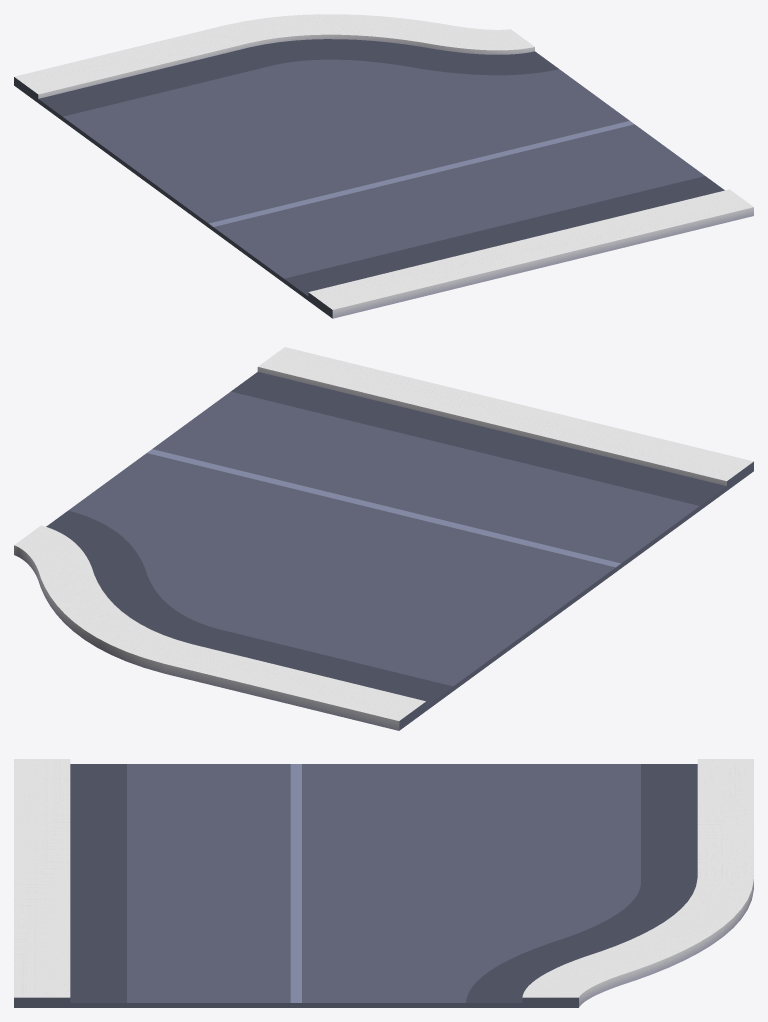
File: road-side-entry.glb
3 renders of one model, top to bottom at view 1: azimuth 30°, elevation 25°; view 2: azimuth 150°, elevation 25°; view 3: azimuth 270°, elevation 25°, orthographic. The views are drawn at different scales.
Visible parts, largest first — view 1: road-side-entry; view 2: road-side-entry; view 3: road-side-entry.
Part boxes in pixels (bbox=[...]): road-side-entry: bbox=[14, 14, 753, 318]; road-side-entry: bbox=[14, 347, 753, 730]; road-side-entry: bbox=[14, 759, 753, 1007].
Bounding box in the file's own units: 1 × 0.02 × 1.31.
1 material, 1 textured.
